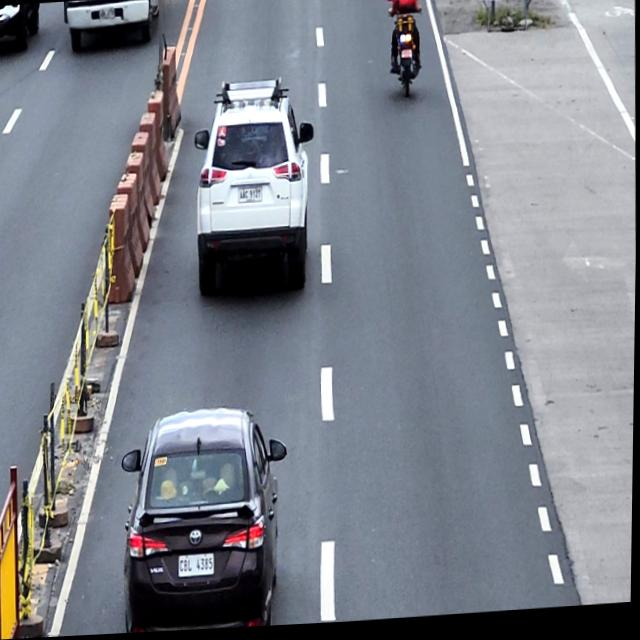Car: (120, 404, 291, 635), (191, 78, 318, 302), (63, 0, 160, 51)
License-Plate: (179, 555, 215, 578), (238, 188, 263, 205), (98, 8, 114, 21), (400, 52, 412, 63)
Motorcycle: (384, 0, 426, 102)
